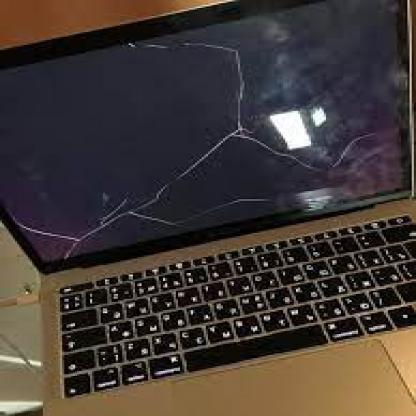crack: (0, 31, 335, 264)
